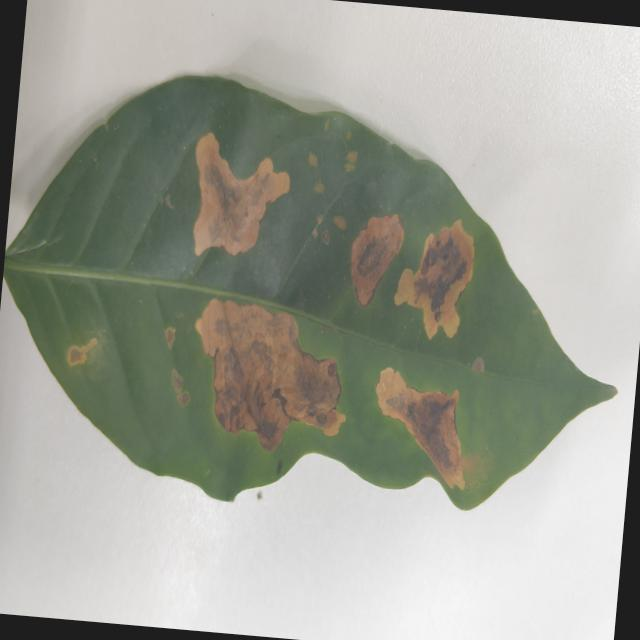PengorokDaunKopi: (195, 299, 345, 451), (193, 133, 289, 256), (376, 367, 464, 489), (394, 220, 473, 339), (351, 214, 403, 307), (67, 338, 97, 366), (172, 369, 183, 392), (172, 369, 182, 392), (165, 327, 174, 349), (332, 216, 346, 230), (472, 356, 484, 372), (177, 391, 189, 406), (345, 151, 357, 163), (313, 180, 323, 194), (308, 152, 317, 167), (322, 230, 328, 244), (316, 214, 323, 224)
